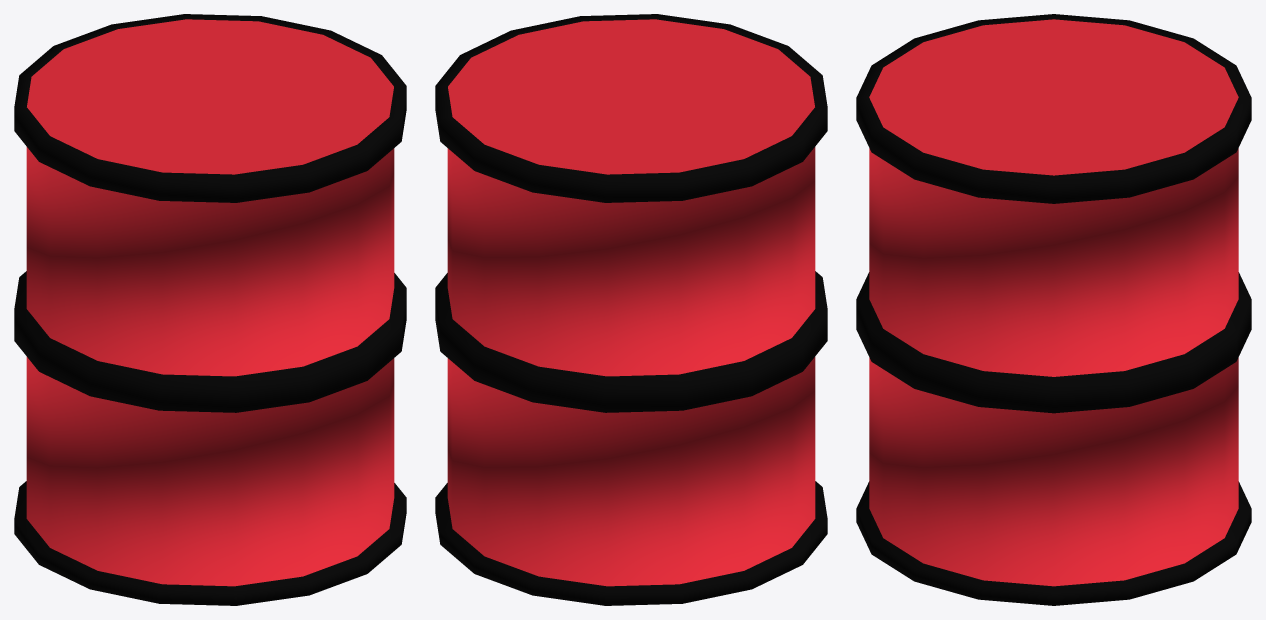
File: barrel.fbx
3 views of the same model, side by side, from view 1: azimuth 30°, elevation 25°; view 2: azimuth 150°, elevation 25°; view 3: azimuth 270°, elevation 25° (orthographic).
Visible parts, largest first — view 1: Cylinder; view 2: Cylinder; view 3: Cylinder.
Part boxes in pixels (x1=…): Cylinder: x1=14, y1=14, x2=406, y2=605; Cylinder: x1=435, y1=14, x2=827, y2=605; Cylinder: x1=856, y1=14, x2=1251, y2=605.
Size of the model in its own units: 82.02 by 97.39 by 82.02.
